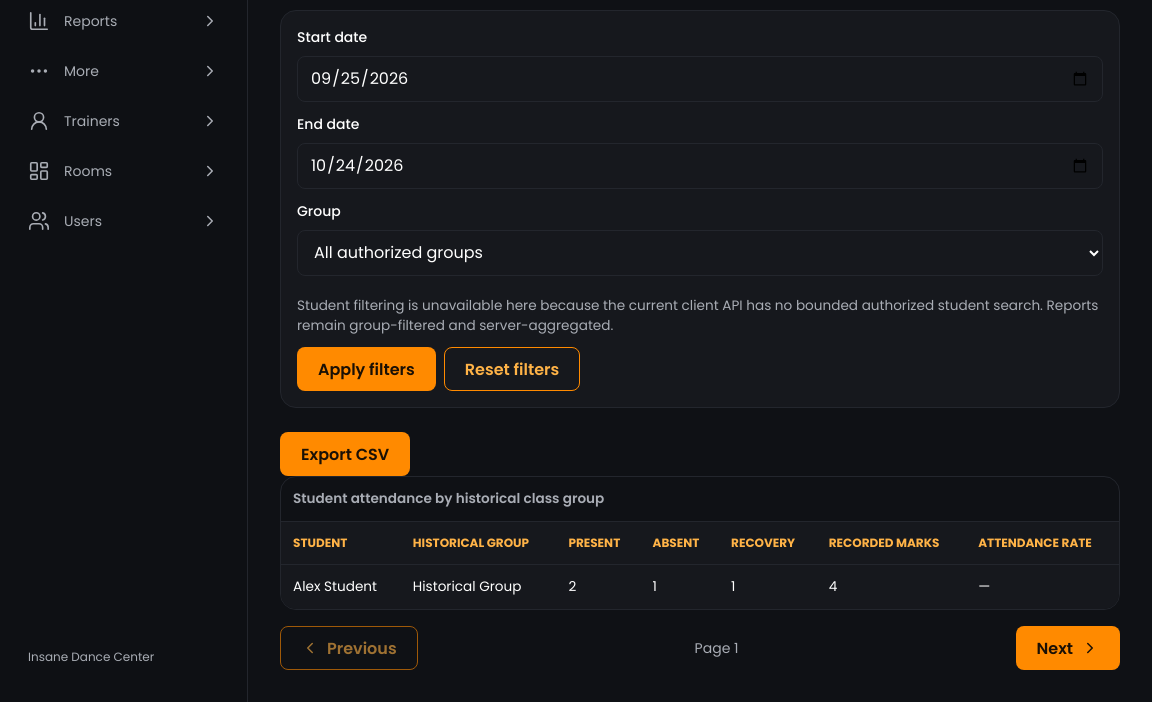
Test: ReportsPage › keeps Previous available after an empty continuation page
The image size is (1152, 702).
(page scrolled)
Check: the text "Alex Student" is shown, box [281,565,401,609]
Click the button "Next": click(1068, 648) [1016,626,1120,670]
(page scrolled)
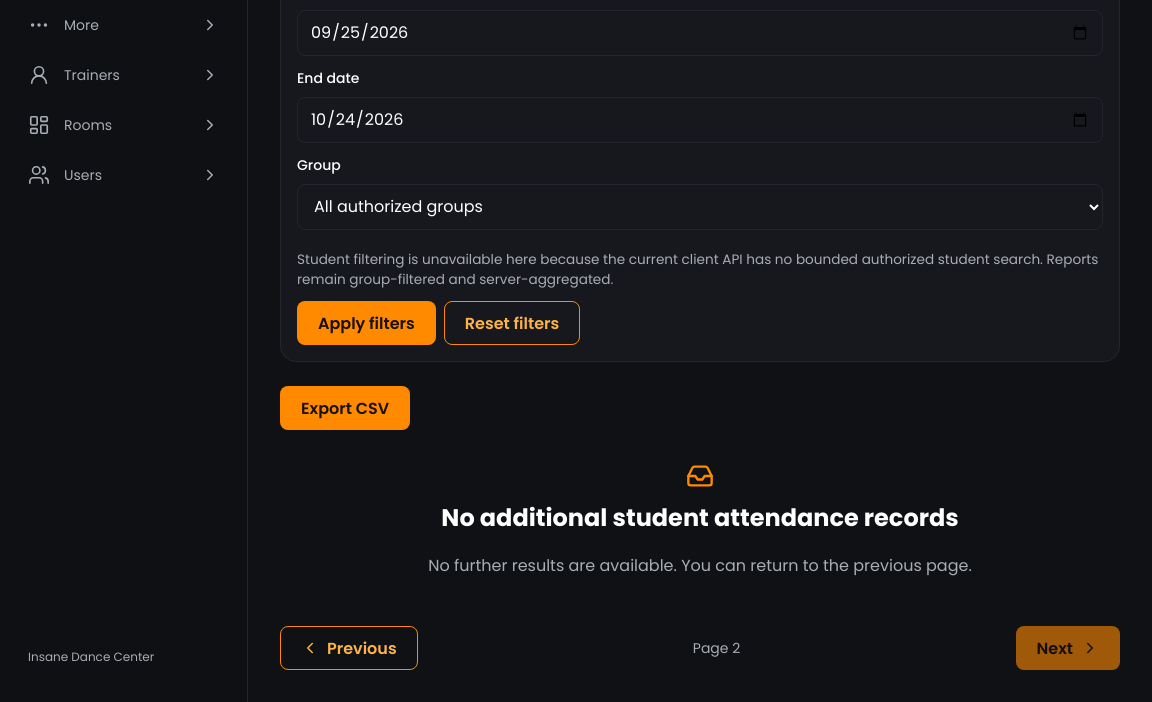
Check: the heading "No additional student attendance records" is shown, box [441,502,959,534]
Check: the button "Previous" is enabled
Check: the button "Next" is disabled, box [1016,626,1120,670]
Click the button "Previous": click(349, 648) [280,626,418,670]
(page scrolled)
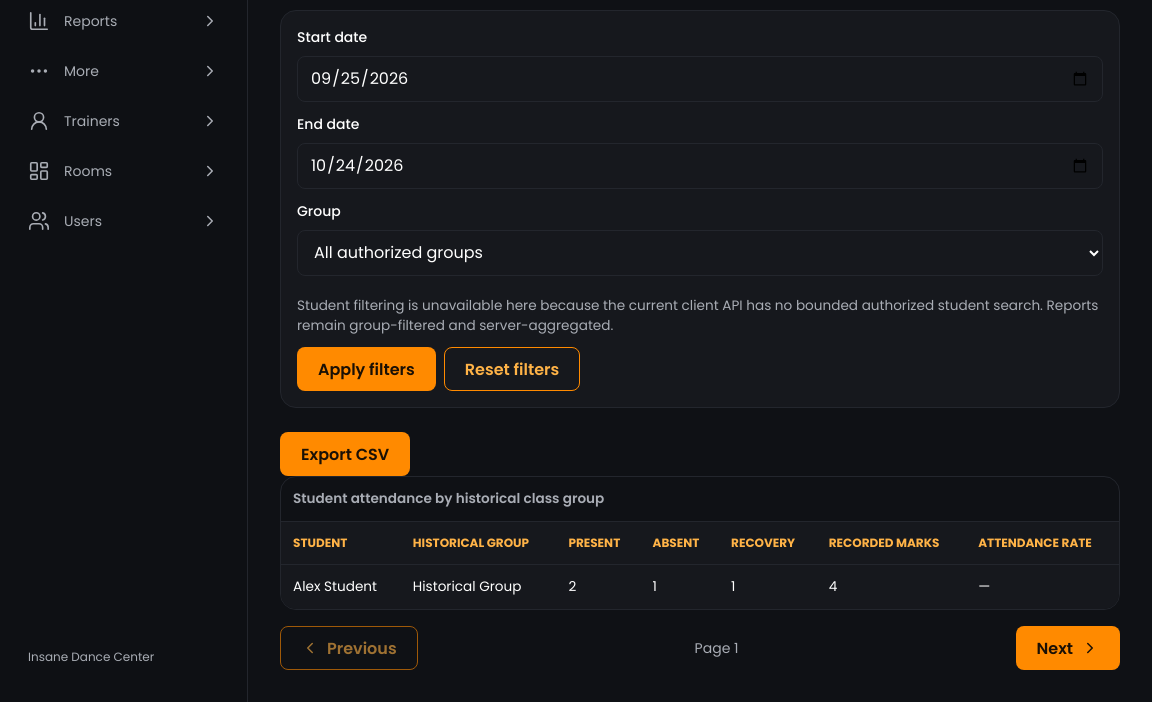
Check: the text "Alex Student" is shown, box [281,565,401,609]
